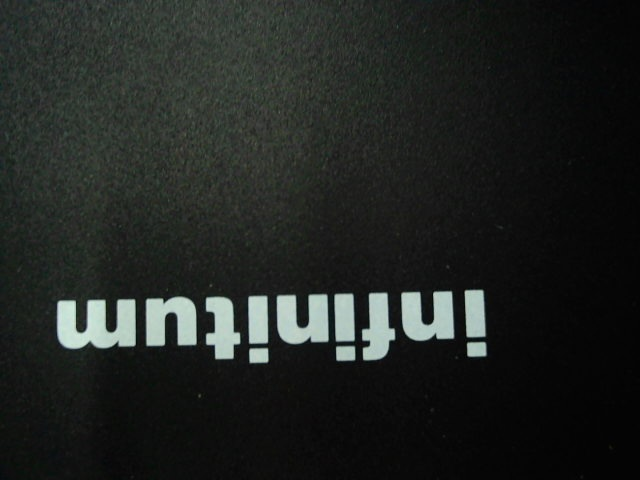BK_infinitum: (50, 280, 508, 370)
